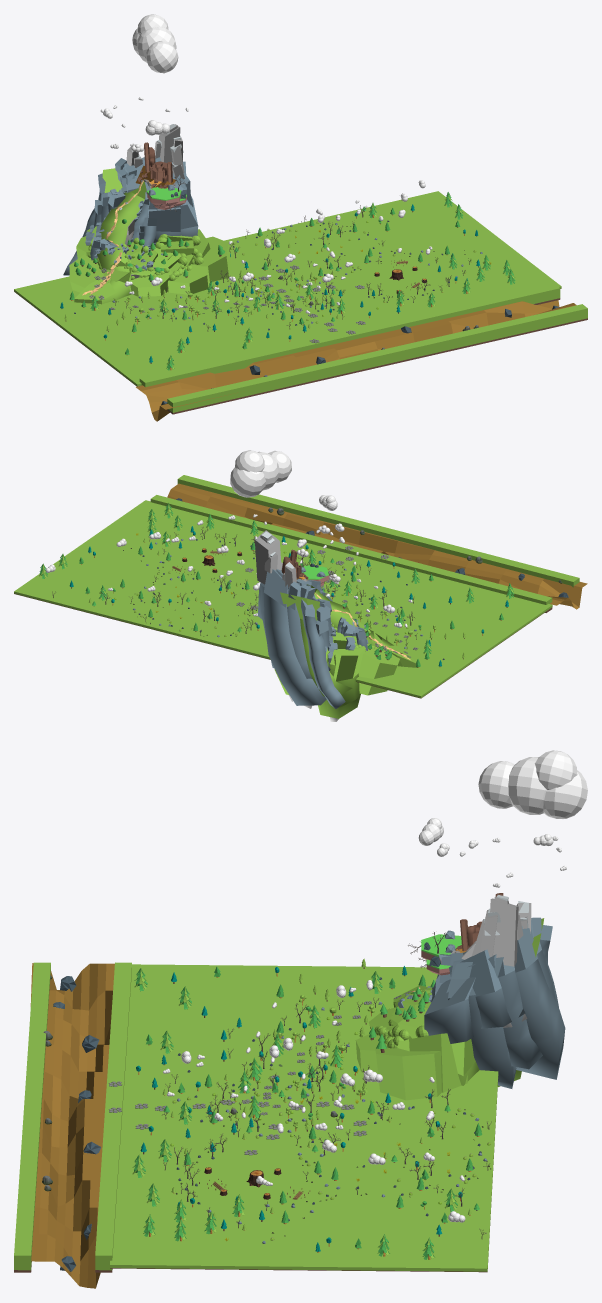
Rendered from entorno_UR.glb.
The picture shows the model from 3 angles, top to bottom: view 1: azimuth 30°, elevation 25°; view 2: azimuth 150°, elevation 25°; view 3: azimuth 270°, elevation 25°; orthographic projection. The views are drawn at different scales.
Parts seen in each view (by area): view 1: group833803046.001, model, group833803046.003, Plano, group833803046.002, group601634601.076; view 2: group833803046.001, model, Plano, group833803046.003, group833803046.002, group601634601.076; view 3: group833803046.001, model, Plano, group833803046.003, group601634601.076, group833803046.002.
Boxes of the visible parts, bbox=[...] form: group833803046.001: bbox=[14, 191, 561, 386]; model: bbox=[63, 124, 231, 304]; group833803046.003: bbox=[167, 304, 587, 414]; Plano: bbox=[136, 300, 576, 421]; group833803046.002: bbox=[139, 284, 560, 387]; group601634601.076: bbox=[132, 14, 178, 73]; group833803046.001: bbox=[14, 500, 552, 698]; model: bbox=[254, 530, 417, 721]; Plano: bbox=[167, 483, 587, 609]; group833803046.003: bbox=[177, 475, 579, 587]; group833803046.002: bbox=[150, 495, 552, 612]; group601634601.076: bbox=[230, 450, 291, 497]; group833803046.001: bbox=[110, 964, 498, 1272]; model: bbox=[355, 893, 565, 1100]; Plano: bbox=[30, 963, 114, 1288]; group833803046.003: bbox=[14, 962, 50, 1272]; group601634601.076: bbox=[478, 750, 587, 818]; group833803046.002: bbox=[95, 962, 131, 1272].
Bounding box in the file's own units: 26.25 × 17.32 × 20.74.
30 materials, 8 textured.
